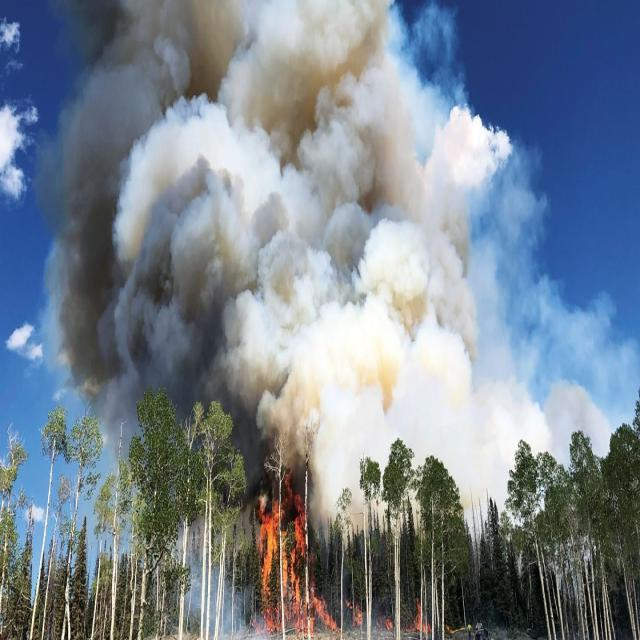Fire: (252, 469, 314, 639), (406, 598, 434, 635), (313, 596, 341, 633), (345, 600, 363, 630), (374, 616, 395, 630)
Smoke: (49, 0, 476, 505)
